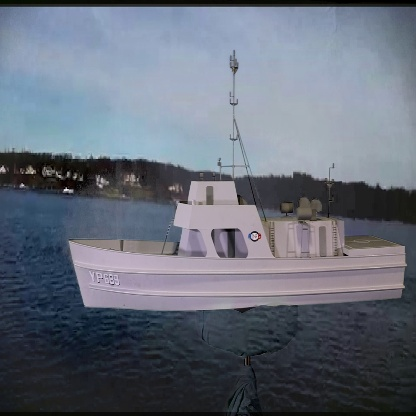YP689: (69, 50, 407, 312)
